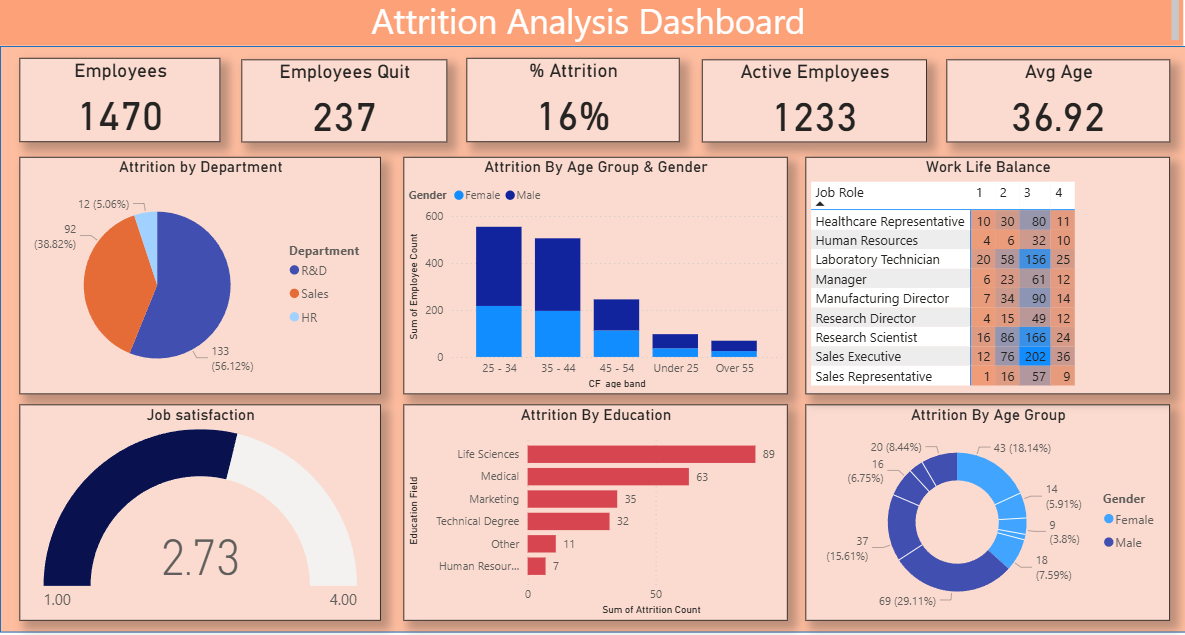

This screenshot's page, from the dashboard's own definition file:
{"tool":"powerbi","page":{"name":"HR Dashboard","canvas":[1280,720],"ordinal":0},"visuals":[{"type":"textbox","box":[10,0,280,280],"z":0},{"type":"textbox","box":[0,0,1277.6,58.3],"z":1000},{"type":"shape","box":[0,58.3,1280.8,633.1],"z":2000},{"type":"card","title":"Employees","fields":{"Values":["HR DAX.Employees"]},"box":[21,71.2,217,90.7],"z":3000},{"type":"card","title":"Employees Quit","fields":{"Values":["D_Measures.Employees Quit"]},"box":[260.7,72.9,221.8,89.1],"z":4000},{"type":"card","title":"% Attrition","fields":{"Values":["D_Measures.% Attrition"]},"box":[503.6,71.2,229.9,90.7],"z":5000},{"type":"card","title":"Active Employees","fields":{"Values":["D_Measures.Active Employees"]},"box":[757.8,72.9,242.9,89.1],"z":6000},{"type":"card","title":"Avg Age","fields":{"Values":["D_Measures.Avg Age"]},"box":[1021.7,72.9,241.3,89.1],"z":7000},{"type":"pieChart","fields":{"Y":["\"Measures\".Attrition"],"Category":["HR data.Department"]},"box":[21,178.1,390.2,255.8],"z":8000},{"type":"columnChart","title":"Attrition By Age Group & Gender","fields":{"Category":["HR data.CF_age band"],"Series":["HR data.Gender"],"Y":["Sum(HR data.Employee Count)"]},"box":[435.6,178.1,414.5,255.8],"z":9000},{"type":"gauge","fields":{"Y":["\"Measures\".Job satisfaction"]},"box":[21,445.3,390.2,233.2],"z":10000},{"type":"clusteredBarChart","title":"Attrition By Education","fields":{"Y":["\"Measures\".Sum_of_Attrition"],"Category":["HR data.Education Field"]},"box":[435.6,445.3,414.5,233.2],"z":11000},{"type":"donutChart","title":"Attrition By Age Group","fields":{"Y":["\"Measures\".Attrition"],"Series":["HR data.CF_age band"],"Category":["HR data.Gender"]},"box":[869.5,445.3,393.5,233.2],"z":12000},{"type":"pivotTable","title":"Work Life Balance","fields":{"Rows":["HR data.Job Role"],"Columns":["HR data.Work Life Balance"],"Values":["Sum(HR data.Employee Count)"]},"box":[869.5,178.1,393.5,255.8],"z":13000}]}

Visuals, with their boxes in screenshot pixels (x1, y1, x2, y2):
textbox: [21,0,274,250]
textbox: [12,0,1166,50]
shape: [12,50,1169,621]
"Employees" card: [31,61,227,143]
"Employees Quit" card: [248,63,448,143]
"% Attrition" card: [467,61,674,143]
"Active Employees" card: [696,63,916,143]
"Avg Age" card: [935,63,1152,143]
pieChart - "Measures".Attrition x HR data.Department: [31,158,384,389]
"Attrition By Age Group & Gender" columnChart: [406,158,780,389]
gauge - "Measures".Job satisfaction: [31,399,384,609]
"Attrition By Education" clusteredBarChart: [406,399,780,609]
"Attrition By Age Group" donutChart: [797,399,1152,609]
"Work Life Balance" pivotTable: [797,158,1152,389]
